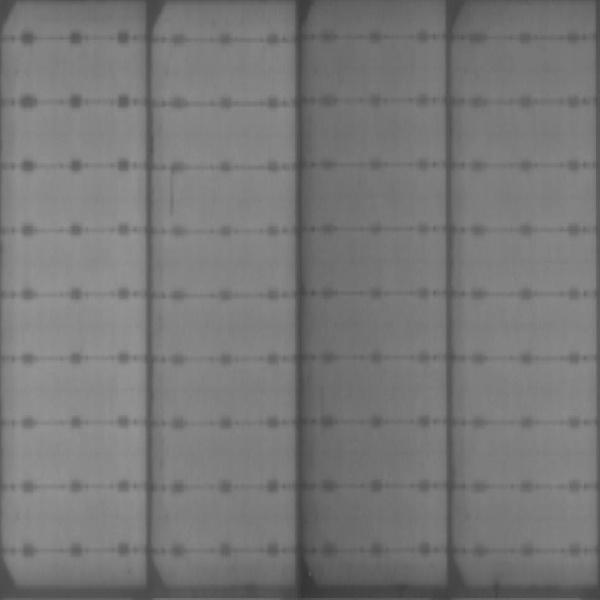scratch: (164, 161, 182, 218)
